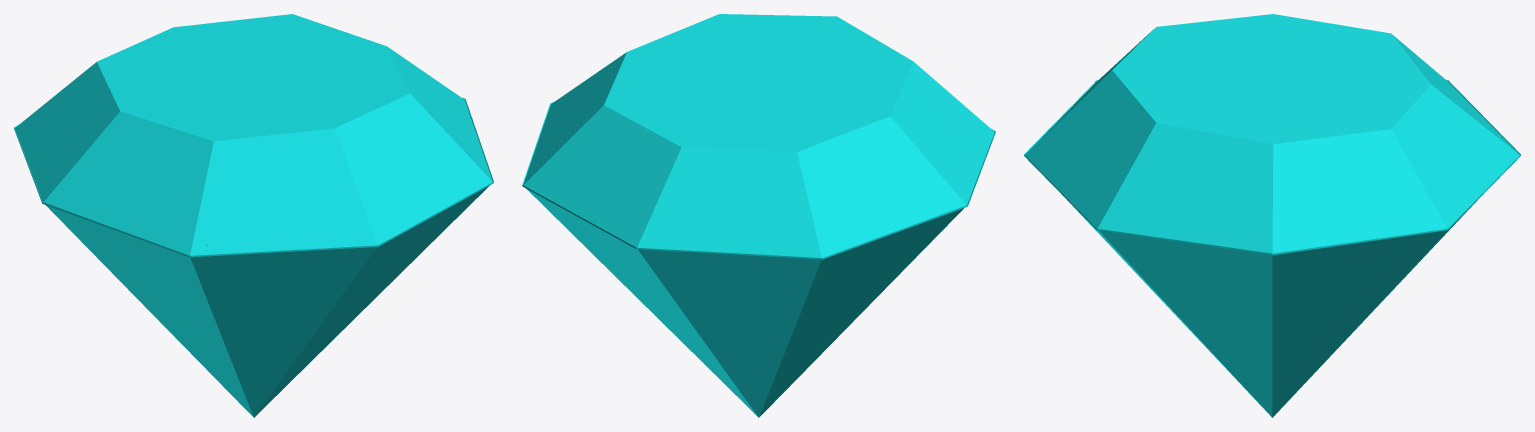
Rendered from CrackD.fbx.
The picture shows the model from 3 angles, left to right: view 1: azimuth 30°, elevation 25°; view 2: azimuth 150°, elevation 25°; view 3: azimuth 270°, elevation 25°; orthographic projection.
Parts seen in each view (by area): view 1: Cylinder; view 2: Cylinder; view 3: Cylinder.
Part boxes in pixels (box(x1,y1,x2,y2)): Cylinder: box(14, 14, 493, 417); Cylinder: box(522, 14, 995, 417); Cylinder: box(1024, 14, 1520, 417).
Bounding box in the file's own units: 4.71 × 3.7 × 4.78.
